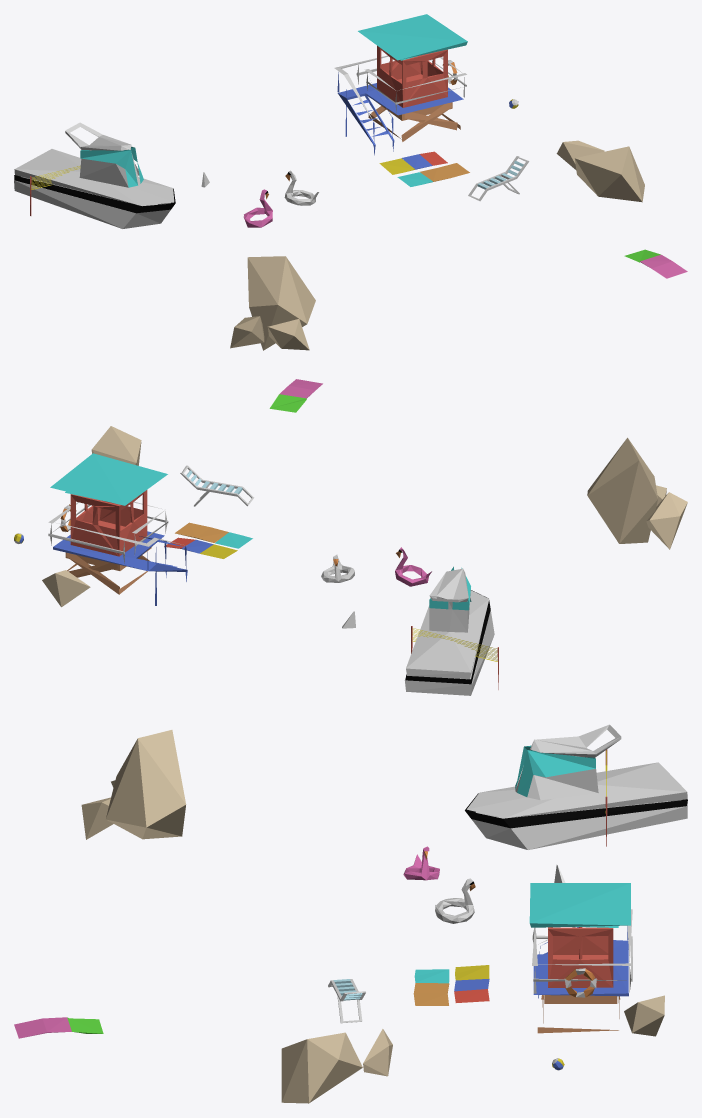
The model's file is SceneMySunYacht.fbx.
The picture shows the model from 3 angles, top to bottom: view 1: azimuth 30°, elevation 25°; view 2: azimuth 150°, elevation 25°; view 3: azimuth 270°, elevation 25°; orthographic projection. The views are drawn at different scales.
Visible parts, largest first — view 1: CABIN, YACHT, ROCKS, TOWEL2, TOWEL1, TOWEL3, B_CHAIR1, FLOAT1, FLOAT2; view 2: CABIN, ROCKS, YACHT, TOWEL1, TOWEL3, B_CHAIR1, TOWEL2, VOLLEYBALL2, FLOAT1, FLOAT2; view 3: YACHT, ROCKS, CABIN, TOWEL3, TOWEL1, TOWEL2, FLOAT2, B_CHAIR1, FLOAT1.
Part boxes in pixels (x1,y1,x2,y2): CABIN: (334,14,467,155); YACHT: (14,122,175,228); ROCKS: (230,140,644,350); TOWEL2: (379,151,447,174); TOWEL1: (397,163,469,186); TOWEL3: (624,249,687,278); B_CHAIR1: (468,156,529,201); FLOAT1: (243,189,272,227); FLOAT2: (284,170,318,205); CABIN: (48,453,187,605); ROCKS: (42,426,687,607); YACHT: (404,566,494,695); TOWEL1: (175,522,252,548); TOWEL3: (269,379,322,412); B_CHAIR1: (180,465,254,506); TOWEL2: (164,537,237,558); VOLLEYBALL2: (411,626,498,689); FLOAT1: (395,547,431,586); FLOAT2: (321,554,354,582); YACHT: (465,724,687,849); ROCKS: (81,730,664,1103); CABIN: (529,883,632,1033); TOWEL3: (14,1017,103,1038); TOWEL1: (413,969,449,1005); TOWEL2: (454,965,489,1002); FLOAT2: (435,878,475,923); B_CHAIR1: (328,979,365,1023); FLOAT1: (403,846,439,880).
Bounding box in the file's own units: 11369 × 2372 × 10695.
